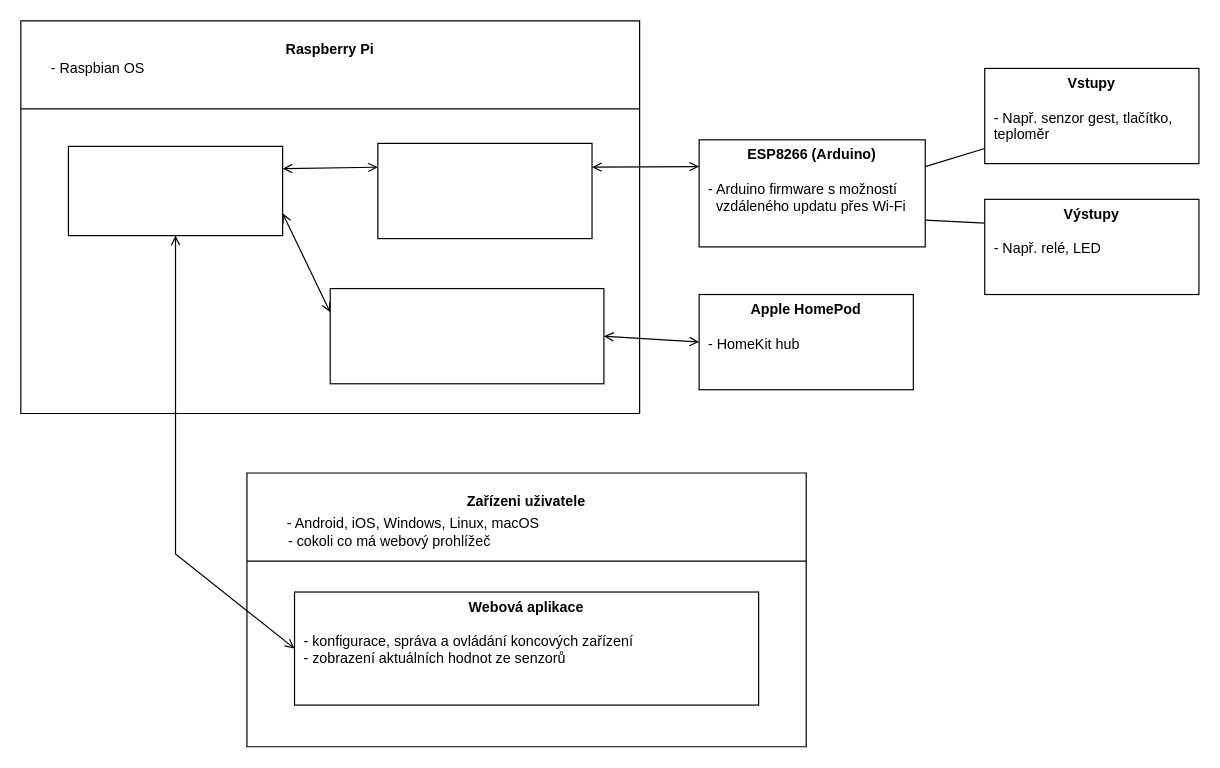
Image size: 1220x768. Some labels were removed from this diagram. Each missing label, with the centre of its shape:
"Homebridge - most pro komunikaci s Apple HomeKit a Google Home zařízeními" belongs at (x=466, y=335).
"MQTT broker - Mosquito" belongs at (x=484, y=190).
"Node.js server - RESTful API - Express.js web framework" belongs at (x=175, y=190).
